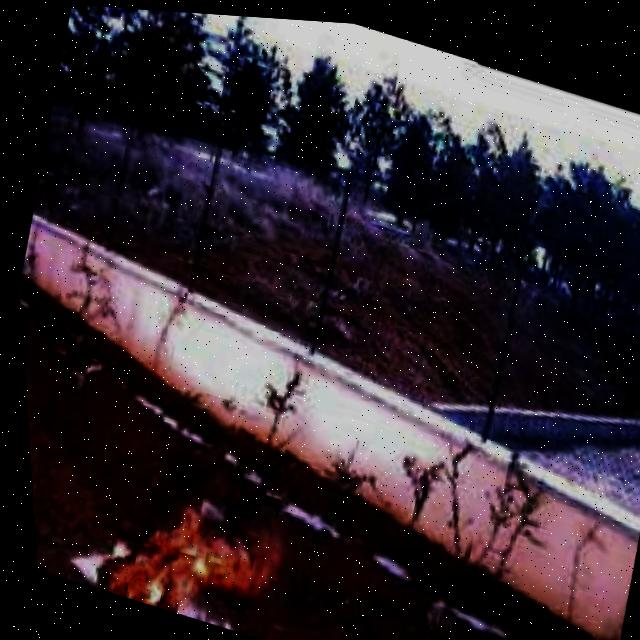Fire: (67, 460, 294, 640)
